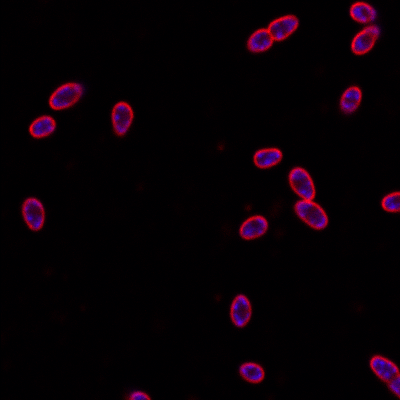Mecillinam: (244, 13, 300, 53), (291, 197, 328, 233), (287, 165, 317, 200), (110, 101, 134, 139), (21, 197, 46, 233), (236, 214, 269, 241), (228, 292, 252, 329), (237, 359, 264, 385), (28, 115, 57, 139), (252, 147, 281, 169)
Oblique: (49, 83, 82, 112), (350, 26, 380, 54), (339, 84, 364, 114), (349, 1, 380, 24)
